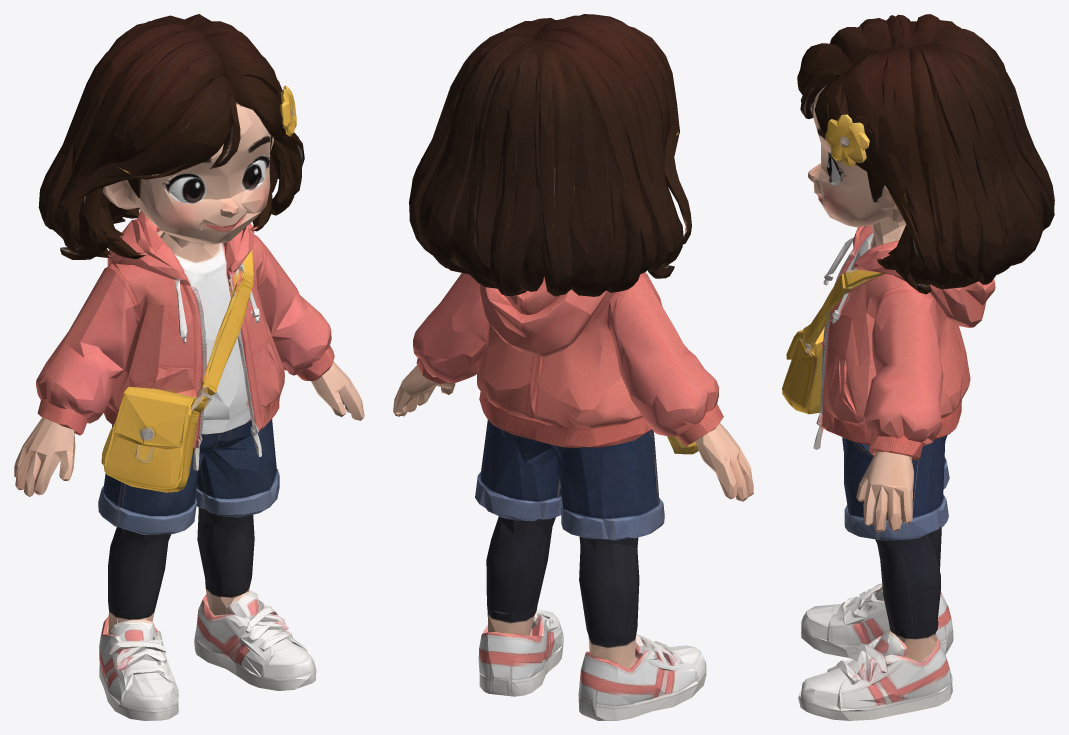
File: hero_girl_meshy_source.glb
3 views of the same model, side by side, from view 1: azimuth 30°, elevation 25°; view 2: azimuth 150°, elevation 25°; view 3: azimuth 270°, elevation 25° (orthographic). The views are drawn at different scales.
Parts seen in each view (by area): view 1: output_unwrapped; view 2: output_unwrapped; view 3: output_unwrapped.
Part boxes in pixels (x1,y1,x2,y2): output_unwrapped: (14,14,364,720); output_unwrapped: (393,14,753,720); output_unwrapped: (782,14,1054,720).
Bounding box in the file's own units: 1.04 × 1.9 × 0.7179.
Materials: 1 (1 with a texture image).
